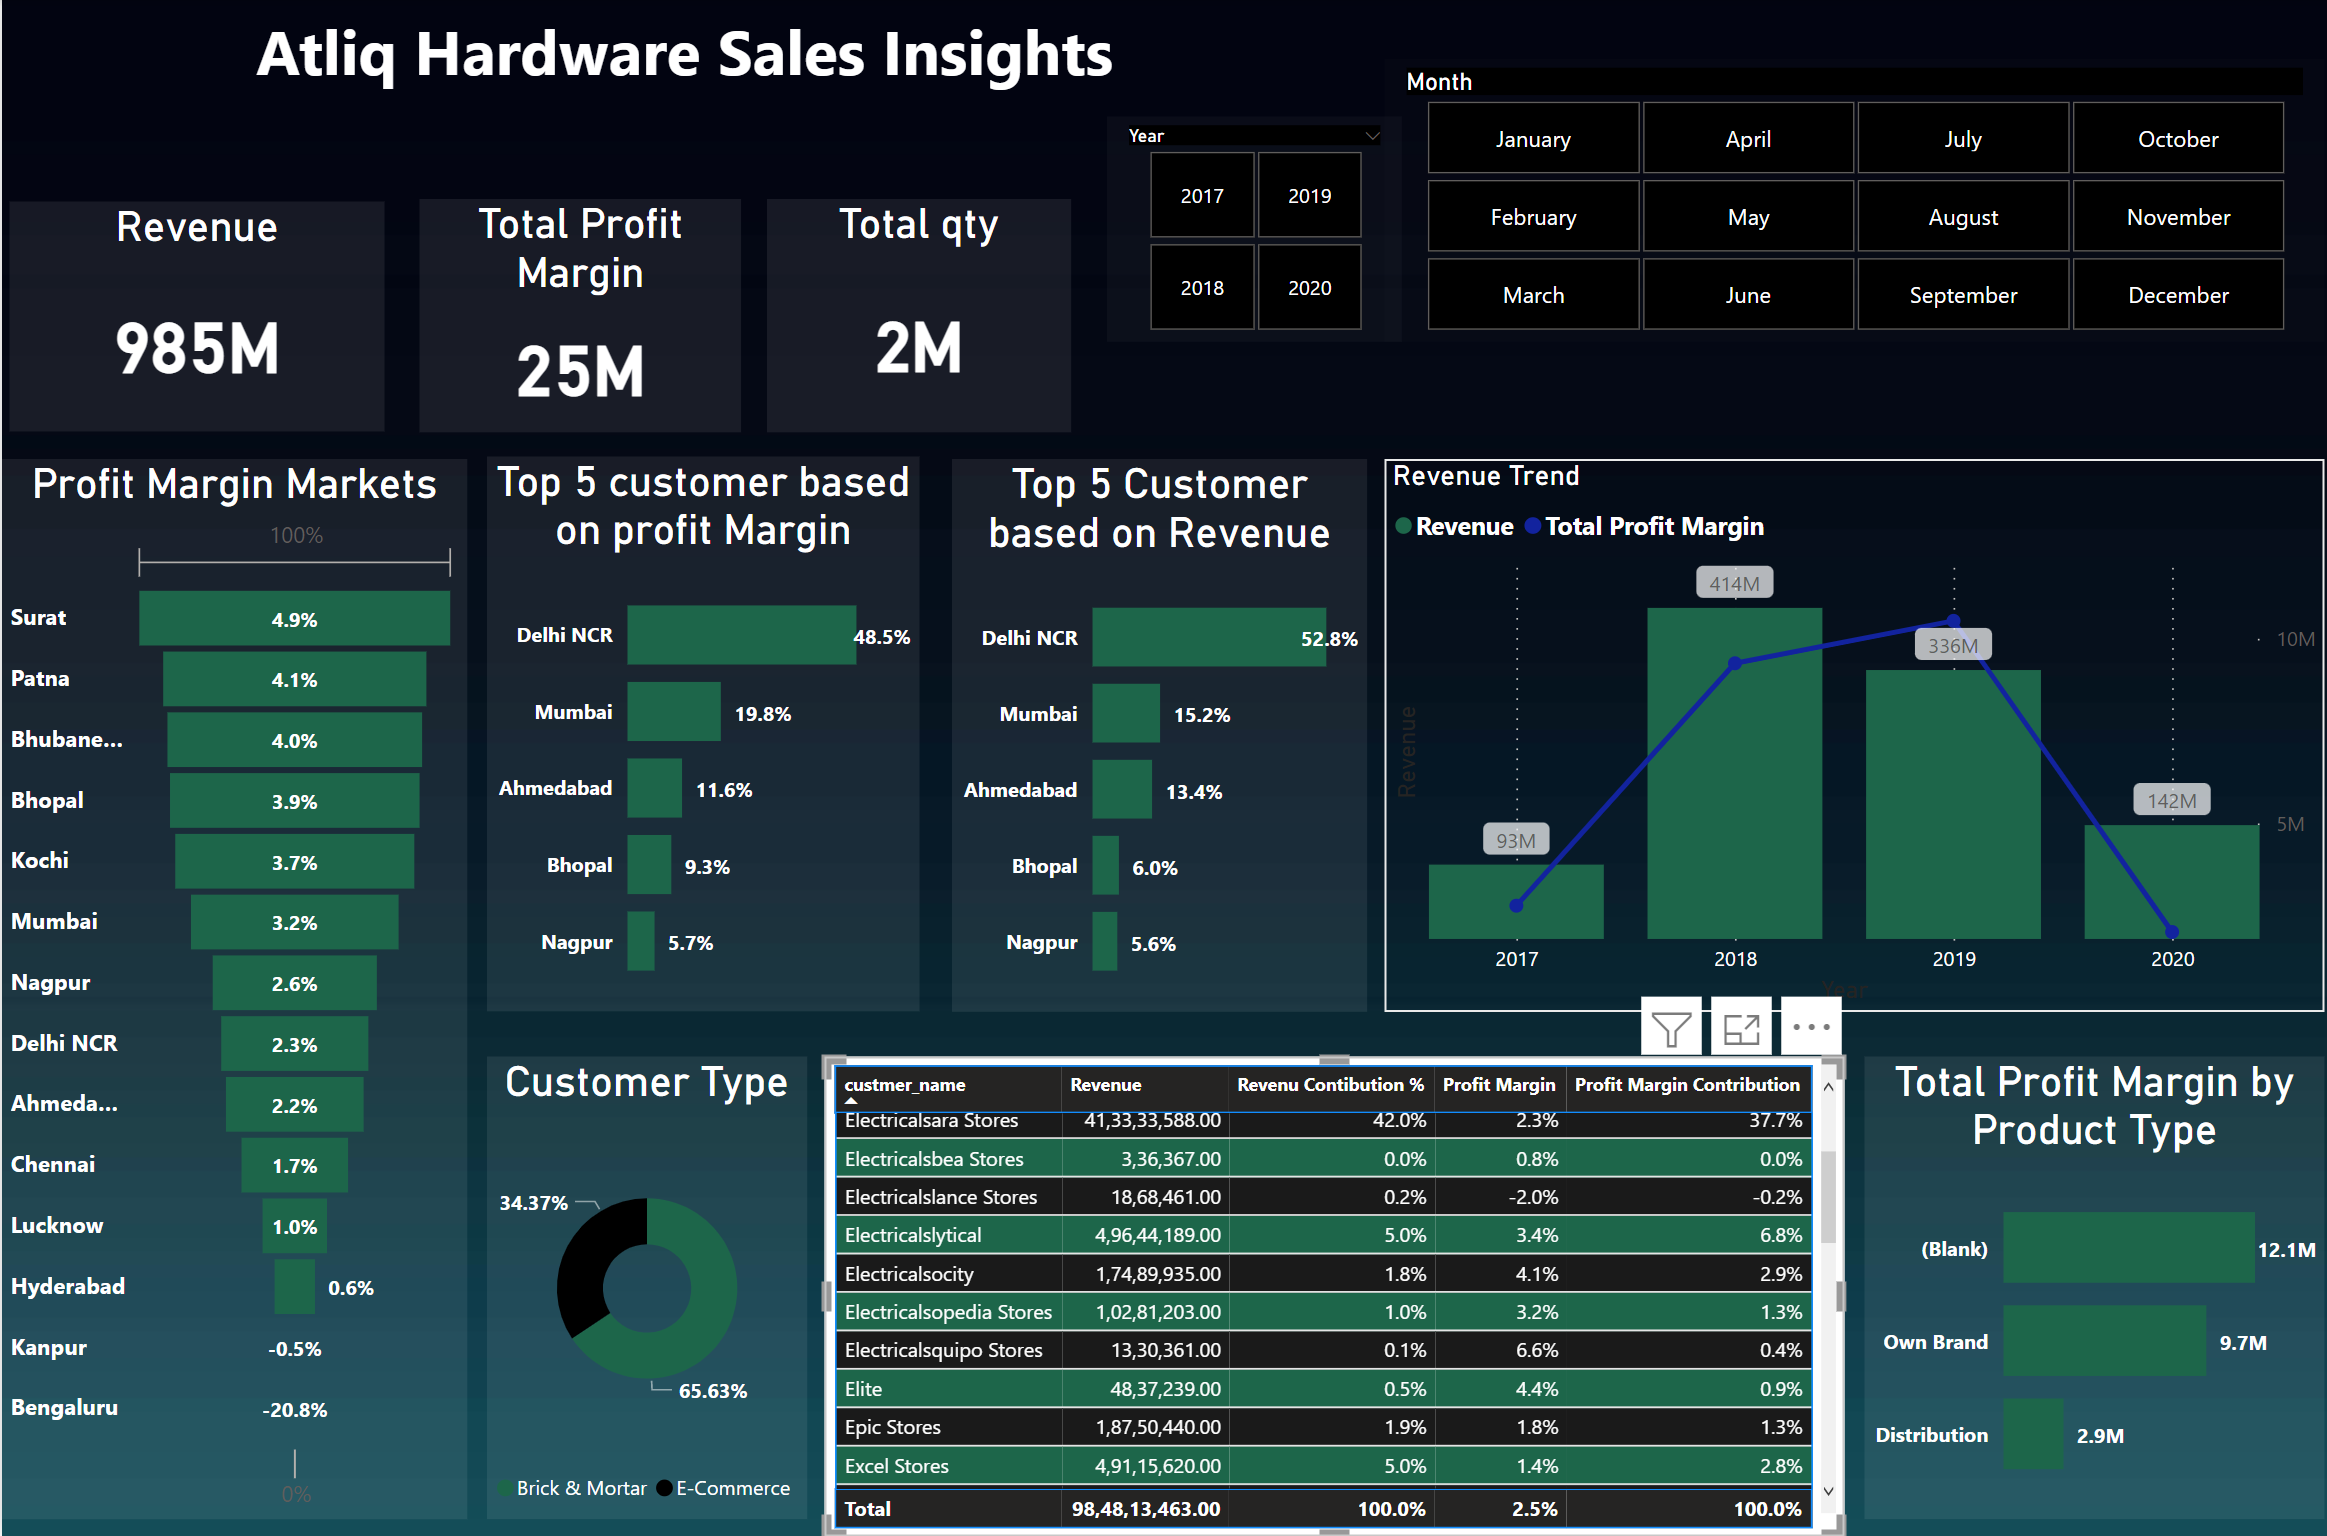

The dashboard page shown, as its layout file describes it:
{"tool":"powerbi","page":{"name":"Page 1","canvas":[1400,920],"ordinal":0},"visuals":[{"type":"card","title":"Revenue","fields":{"Values":["Base Measure.Revenue"]},"box":[4.5,121.2,224.4,137.6],"z":0},{"type":"card","title":"Total Profit Margin","fields":{"Values":["Base Measure.Total Profit Margin"]},"box":[250.1,119.7,192.5,139.4],"z":1000},{"type":"card","title":"Total qty","fields":{"Values":["Base Measure.Total Quantity"]},"box":[457.7,119.7,181.9,139.4],"z":2000},{"type":"funnel","title":"Profit Margin Markets","fields":{"Category":["sales markets.markets_name","sales markets.zone"],"Y":["Base Measure.Profit Margin"]},"box":[4.5,273.8,278.2,634.3],"z":3000},{"type":"barChart","title":"Top 5 customer based on profit Margin","fields":{"Category":["sales markets.markets_name","sales markets.zone"],"Y":["Base Measure.Profit Margin Contribution"]},"box":[290.2,273.8,258.8,332.1],"z":4000},{"type":"barChart","title":"Top 5 Customer based on Revenue","fields":{"Category":["sales markets.markets_name","sales markets.zone"],"Y":["Base Measure.Revenu Contibution %"]},"box":[568.5,275.3,248.3,330.6],"z":5000},{"type":"donutChart","title":"Customer Type","fields":{"Category":["sales customers.customer_type"],"Y":["Base Measure.Profit Margin Contribution"]},"box":[290.2,632.8,191.5,276.7],"z":6000},{"type":"tableEx","fields":{"Values":["sales customers.custmer_name","Base Measure.Revenue","Base Measure.Revenu Contibution %","Base Measure.Profit Margin","Base Measure.Profit Margin Contribution"]},"box":[492.2,632.8,610.3,287.2],"z":7000},{"type":"lineClusteredColumnComboChart","title":"Revenue Trend","fields":{"Category":["sales date.date.Variation.Date Hierarchy.Year","sales date.date.Variation.Date Hierarchy.Quarter","sales date.date.Variation.Date Hierarchy.Month","sales date.date.Variation.Date Hierarchy.Day"],"Y":["Base Measure.Revenue"],"Y2":["Base Measure.Total Profit Margin"]},"box":[827.3,275.3,562.5,330.6],"z":8000},{"type":"slicer","fields":{"Values":["sales date.date.Variation.Date Hierarchy.Year"]},"box":[661.2,70.3,176.5,134.6],"z":9000},{"type":"slicer","fields":{"Values":["sales date.date.Variation.Date Hierarchy.Month"]},"box":[827.3,35.9,572.9,191.5],"z":10000},{"type":"barChart","title":"Total Profit Margin by Product Type","fields":{"Category":["sales products.product_type"],"Y":["Base Measure.Total Profit Margin"]},"box":[1114.5,632.8,275.3,276.7],"z":11000},{"type":"textbox","box":[0,0,816.9,69.7],"z":13000}]}

Visuals, with their boxes in screenshot pixels (x1, y1, x2, y2), scaled from the page's 1400x920 canvas onto the 2327x1536 screenshot:
"Revenue" card: [7,202,380,432]
"Total Profit Margin" card: [416,200,736,433]
"Total qty" card: [761,200,1063,433]
"Profit Margin Markets" funnel: [7,457,470,1516]
"Top 5 customer based on profit Margin" barChart: [482,457,913,1012]
"Top 5 Customer based on Revenue" barChart: [945,460,1358,1012]
"Customer Type" donutChart: [482,1057,801,1518]
tableEx - sales customers.custmer_name x Base Measure.Revenue: [818,1057,1833,1535]
"Revenue Trend" lineClusteredColumnComboChart: [1375,460,2310,1012]
slicer - sales date.date.Variation.Date Hierarchy.Year: [1099,117,1392,342]
slicer - sales date.date.Variation.Date Hierarchy.Month: [1375,60,2326,380]
"Total Profit Margin by Product Type" barChart: [1852,1057,2310,1518]
textbox: [0,0,1358,116]
